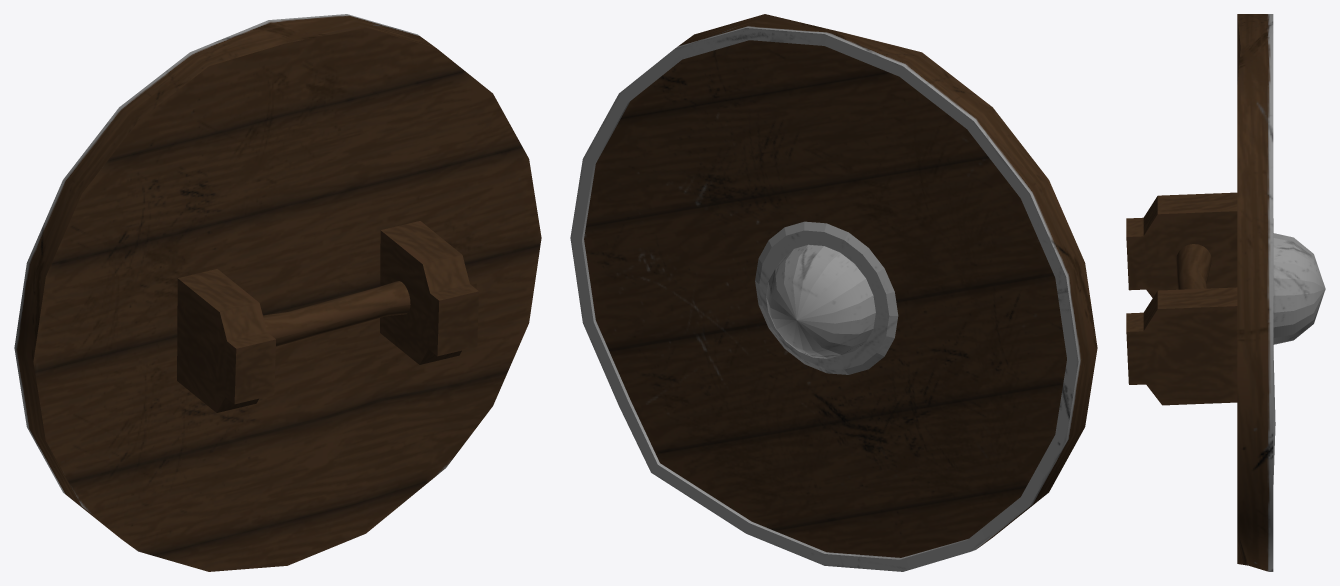
Rendered from maya2sketchfab.fbx.
3 renders of one model, left to right at view 1: azimuth 30°, elevation 25°; view 2: azimuth 150°, elevation 25°; view 3: azimuth 270°, elevation 25°, orthographic. The views are drawn at different scales.
Visible parts, largest first — view 1: pCube10; view 2: pCube10; view 3: pCube10.
Boxes of the visible parts, x1,y1,x2,y2 form: pCube10: (14,14,541,571); pCube10: (570,14,1097,571); pCube10: (1126,14,1325,571).
Bounding box in the file's own units: 21.15 × 21.15 × 7.61.
Materials: 2 (2 with a texture image).
